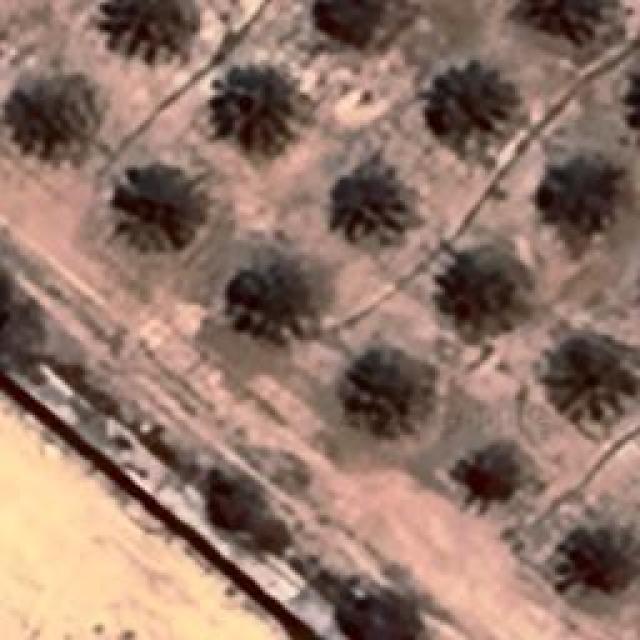PalmTree: (3, 72, 106, 166), (106, 164, 209, 254), (355, 342, 433, 446), (420, 64, 505, 154), (536, 158, 616, 246), (444, 236, 528, 316), (554, 329, 638, 409), (229, 275, 319, 345), (216, 72, 296, 150), (102, 0, 199, 62), (562, 518, 638, 594), (327, 168, 405, 238), (312, 0, 408, 55), (516, 0, 611, 52), (462, 446, 516, 512)
